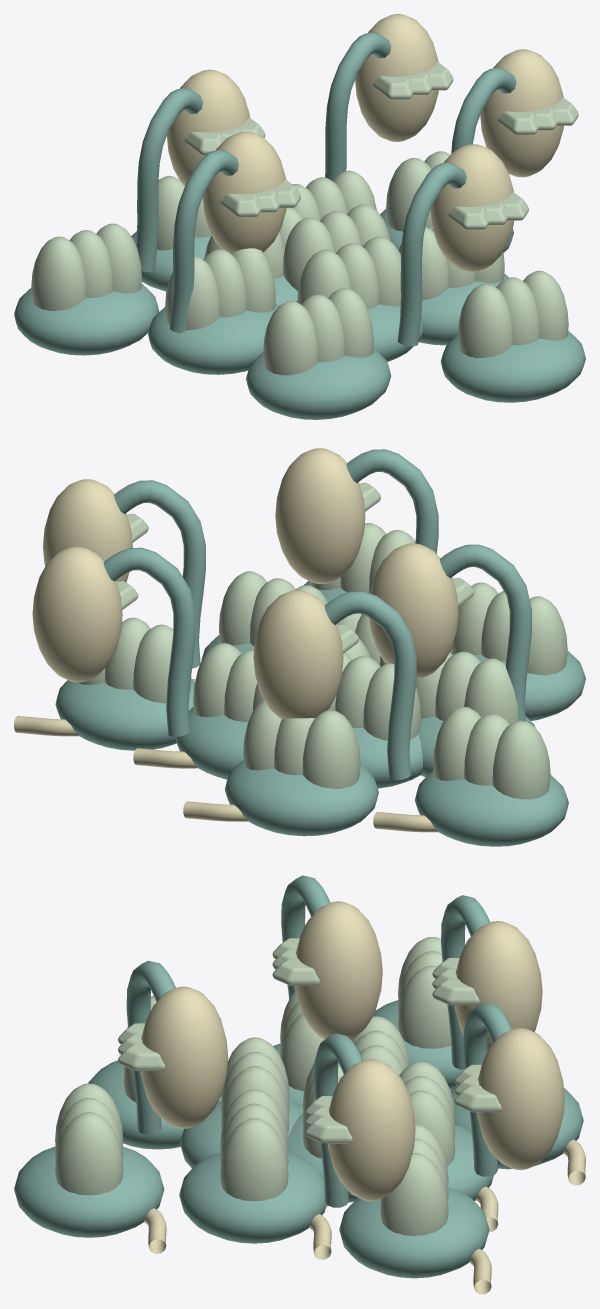
Rendered from bio_acid_mat_08_near.glb.
The picture shows the model from 3 angles, top to bottom: view 1: azimuth 30°, elevation 25°; view 2: azimuth 150°, elevation 25°; view 3: azimuth 270°, elevation 25°; orthographic projection. The views are drawn at different scales.
Visible parts, largest first — view 1: Reaction vesicle.021, Reaction vesicle.027, Reaction vesicle.030, Microbial cushion.010, Microbial cushion.007, Microbial cushion.009, Pendant spore capsule.002, Pendant spore capsule.003, Pendant spore capsule, Pendant spore capsule.004, Reaction vesicle.012, Microbial cushion.004 (+21 smaller); view 2: Pendant spore capsule.002, Pendant spore capsule.003, Pendant spore capsule.001, Reaction vesicle.027, Microbial cushion.009, Microbial cushion.006, Pendant spore capsule.004, Reaction vesicle.018, Microbial cushion.008, Reaction vesicle.021, Arched fruit stem.001, Arched fruit stem.003 (+19 smaller); view 3: Pendant spore capsule, Pendant spore capsule.003, Pendant spore capsule.002, Pendant spore capsule.004, Microbial cushion.010, Microbial cushion.005, Microbial cushion.008, Pendant spore capsule.001, Reaction vesicle.015, Reaction vesicle.030, Reaction vesicle.024, Reaction vesicle.027 (+26 smaller).
Part boxes in pixels (<box>): Reaction vesicle.021: <box>263,288,373,375</box>; Reaction vesicle.027: <box>31,223,141,310</box>; Reaction vesicle.030: <box>458,270,568,358</box>; Microbial cushion.010: <box>440,331,585,402</box>; Microbial cushion.007: <box>246,348,391,419</box>; Microbial cushion.009: <box>14,284,159,355</box>; Pendant spore capsule.002: <box>430,144,514,272</box>; Pendant spore capsule.003: <box>355,14,438,141</box>; Pendant spore capsule: <box>480,49,563,177</box>; Pendant spore capsule.004: <box>202,131,286,253</box>; Reaction vesicle.012: <box>165,248,275,330</box>; Microbial cushion.004: <box>148,303,278,374</box>; Pendant spore capsule.002: <box>275,448,365,583</box>; Pendant spore capsule.003: <box>32,546,122,682</box>; Pendant spore capsule.001: <box>253,590,343,719</box>; Reaction vesicle.027: <box>433,706,550,799</box>; Microbial cushion.009: <box>415,770,568,846</box>; Microbial cushion.006: <box>225,760,378,836</box>; Pendant spore capsule.004: <box>369,543,458,678</box>; Reaction vesicle.018: <box>243,700,360,788</box>; Microbial cushion.008: <box>55,679,194,750</box>; Reaction vesicle.021: <box>451,582,567,675</box>; Arched fruit stem.001: <box>324,591,416,780</box>; Arched fruit stem.003: <box>103,547,195,736</box>; Pendant spore capsule: <box>328,1059,415,1201</box>; Pendant spore capsule.003: <box>477,1028,564,1170</box>; Pendant spore capsule.002: <box>140,986,228,1128</box>; Pendant spore capsule.004: <box>295,901,382,1039</box>; Microbial cushion.010: <box>14,1146,164,1237</box>; Microbial cushion.005: <box>179,1152,326,1243</box>; Microbial cushion.008: <box>339,1187,489,1278</box>; Pendant spore capsule.001: <box>455,921,542,1051</box>; Reaction vesicle.015: <box>220,1089,288,1201</box>; Reaction vesicle.030: <box>55,1083,123,1195</box>; Reaction vesicle.024: <box>380,1124,448,1235</box>; Reaction vesicle.027: <box>398,937,451,1048</box>.
Bounding box in the file's own units: 1.9 × 0.7645 × 1.67.
